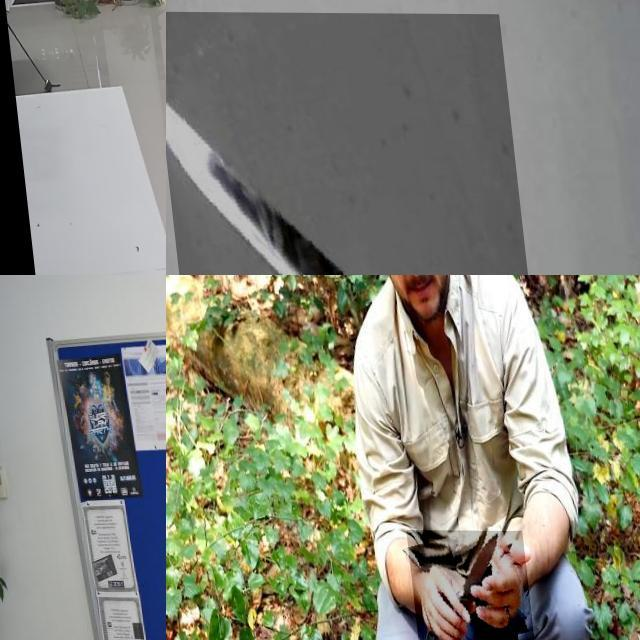-: (166, 12, 545, 275), (397, 529, 523, 640)
